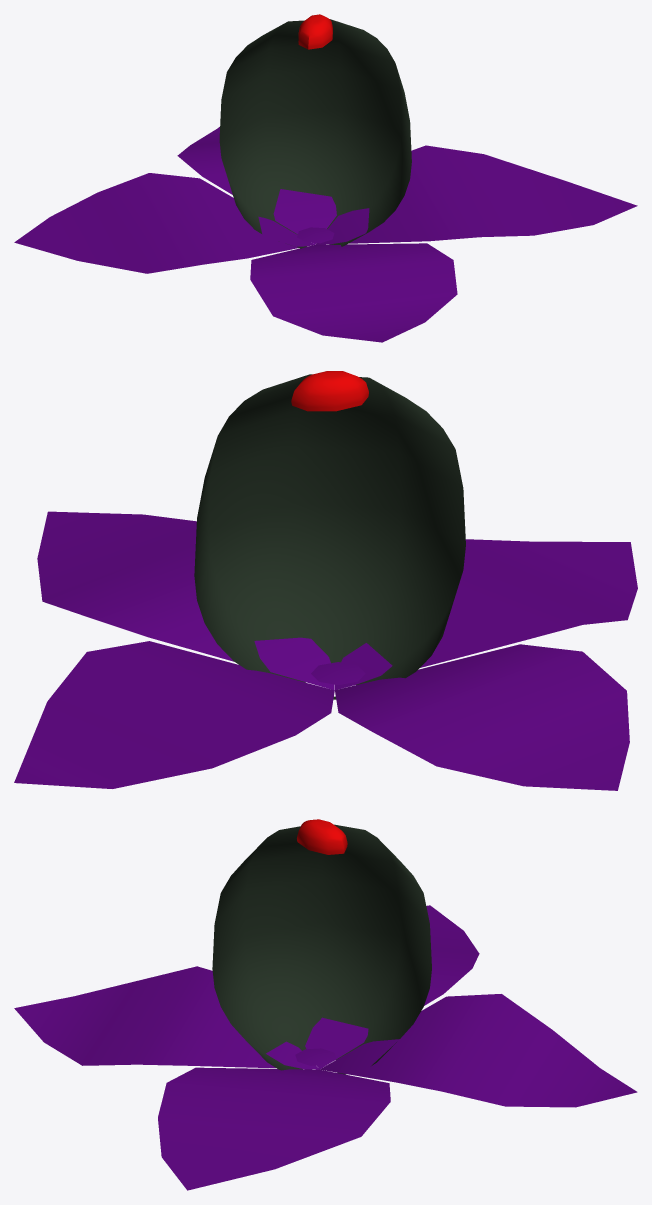
File: berry-black.fbx
3 views of the same model, one above another, from view 1: azimuth 30°, elevation 25°; view 2: azimuth 150°, elevation 25°; view 3: azimuth 270°, elevation 25° (orthographic). The views are drawn at different scales.
Parts seen in each view (by area): view 1: Berries.001; view 2: Berries.001; view 3: Berries.001.
Boxes of the visible parts, left/top/right/bottom form: Berries.001: left=14, top=14, right=637, bottom=342; Berries.001: left=14, top=371, right=637, bottom=790; Berries.001: left=14, top=819, right=637, bottom=1190.
Size of the model in its own units: 231 by 96.06 by 220.
